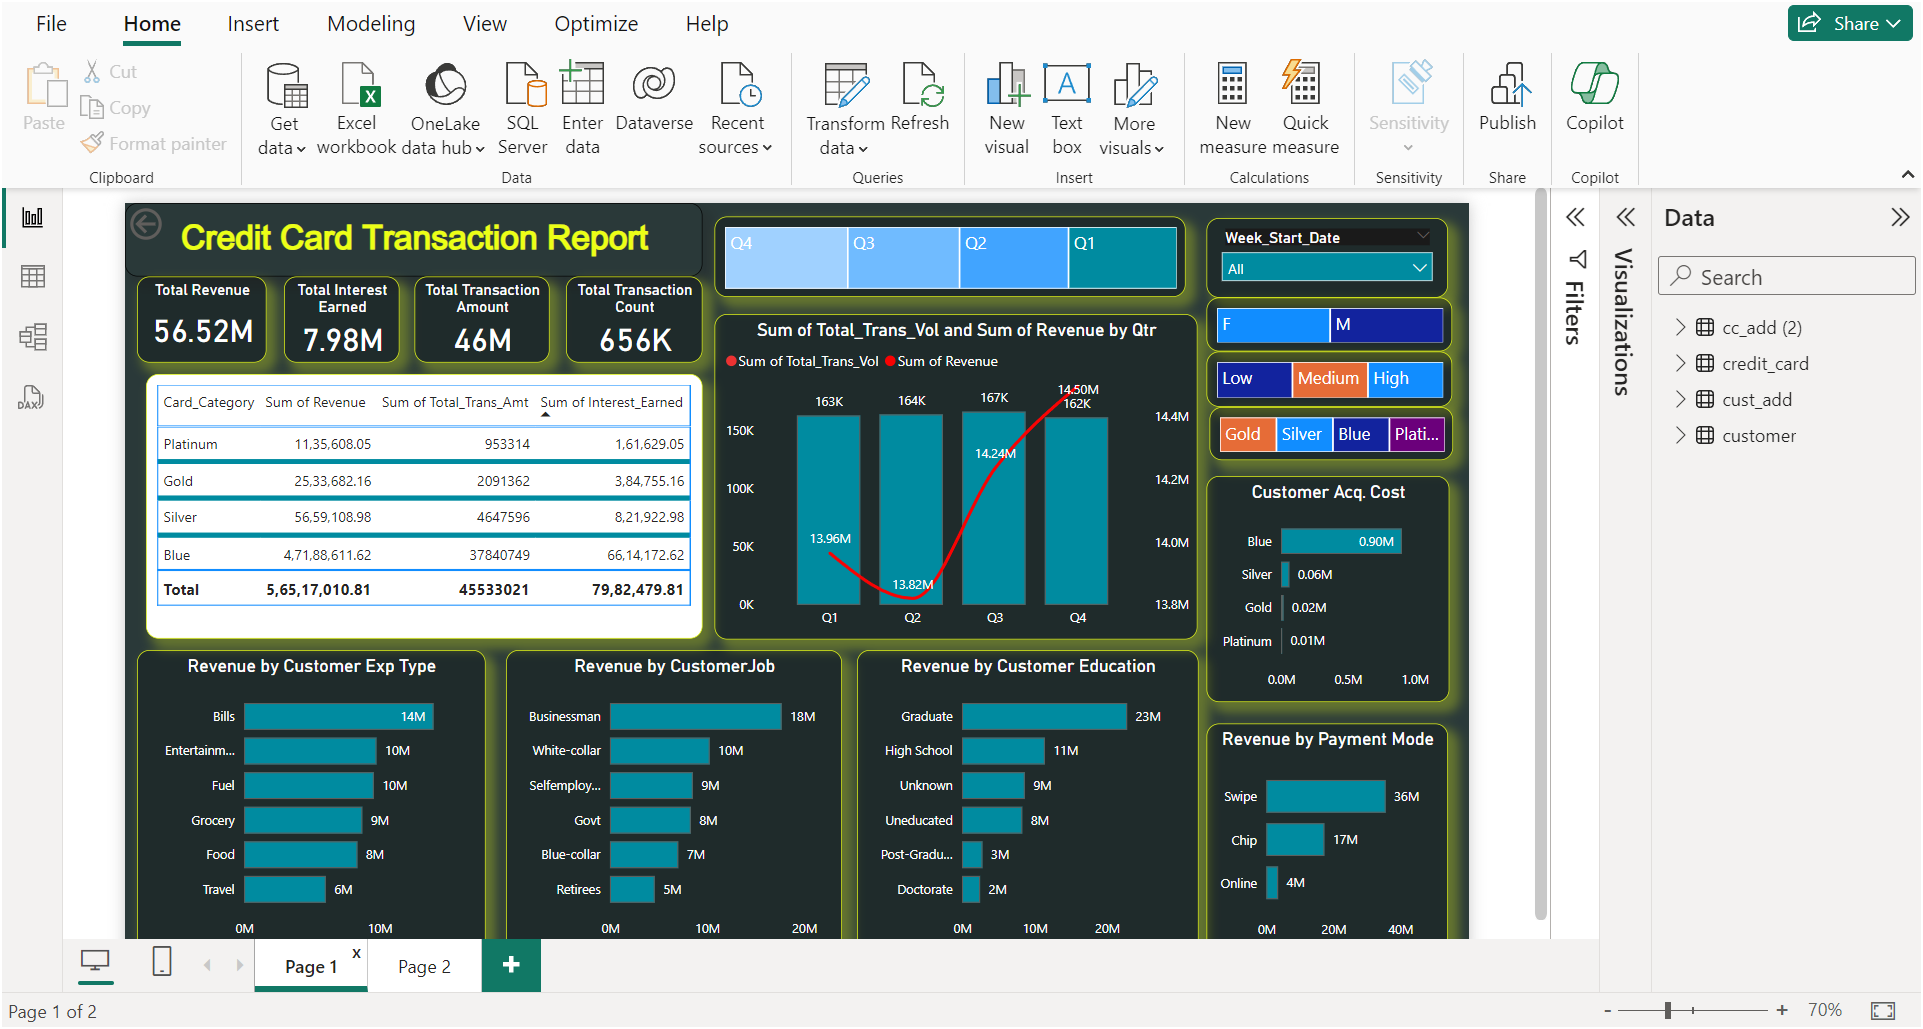

Layout of this report page (visuals, bound fields, positions):
{"tool":"powerbi","page":{"name":"Page 1","canvas":[1280,720],"ordinal":0},"visuals":[{"type":"actionButton","box":[0,0,100,40],"z":0},{"type":"textbox","box":[0,0,550,70],"z":1000},{"type":"barChart","title":"Revenue by Customer Exp Type","fields":{"Category":["credit_card.Exp Type"],"Y":["Sum(credit_card.Revenue)"]},"box":[11.7,425,331.7,286.7],"z":2000},{"type":"barChart","title":"Revenue by Customer Education","fields":{"Category":["customer.Education_Level"],"Y":["Sum(credit_card.Revenue)"]},"box":[696.7,425,325,286.7],"z":3000},{"type":"barChart","title":"Revenue by CustomerJob","fields":{"Y":["Sum(credit_card.Revenue)"],"Category":["customer.Customer_Job"]},"box":[363.3,425,320,286.7],"z":4000},{"type":"barChart","title":"Revenue by Payment Mode","fields":{"Y":["Sum(credit_card.Revenue)"],"Category":["credit_card.Use Chip"]},"box":[1030,496.2,230,217.5],"z":5000},{"type":"lineStackedColumnComboChart","fields":{"Y":["Sum(credit_card.Total_Trans_Vol)"],"Category":["credit_card.Qtr"],"Y2":["Sum(credit_card.Revenue)"]},"box":[561.7,105,460,310],"z":6000},{"type":"treemap","title":"Revenue by Payment Mode","fields":{"Details":["credit_card.Qtr"],"Values":["Avg(credit_card.Client_Num)"]},"box":[561.7,13.3,448.3,76.7],"z":7000},{"type":"card","title":"Total Revenue","fields":{"Values":["Sum(credit_card.Revenue)"]},"box":[11.7,70,123.3,81.7],"z":8000},{"type":"card","title":"Total Interest Earned","fields":{"Values":["Sum(credit_card.Interest_Earned)"]},"box":[151.7,70,110,81.7],"z":9000},{"type":"card","title":"Total  Transaction Amount","fields":{"Values":["Sum(credit_card.Total_Trans_Amt)"]},"box":[275,70,128.3,81.7],"z":10000},{"type":"card","title":"Total Transaction Count","fields":{"Values":["Sum(credit_card.Total_Trans_Vol)"]},"box":[420,70,130,81.7],"z":11000},{"type":"tableEx","fields":{"Values":["credit_card.Card_Category","Sum(credit_card.Revenue)","Sum(credit_card.Total_Trans_Amt)","Sum(credit_card.Interest_Earned)"]},"box":[20,163.3,530,251.7],"z":12000},{"type":"slicer","fields":{"Values":["credit_card.Week_Start_Date"]},"box":[1030,13.8,230,76.2],"z":13000},{"type":"barChart","title":"Customer Acq. Cost","fields":{"Category":["credit_card.Card_Category"],"Y":["Sum(credit_card.Customer_Acq_Cost)"]},"box":[1030,260,231.2,215],"z":14000},{"type":"treemap","title":"Revenue by Payment Mode","fields":{"Values":["Avg(credit_card.Client_Num)"],"Group":["customer.Gender"]},"box":[1030,90,233.8,51.2],"z":15000},{"type":"treemap","title":"Revenue by Payment Mode","fields":{"Values":["Avg(credit_card.Client_Num)"],"Details":["customer.Income Group"]},"box":[1030,141.2,233.8,52.5],"z":16000},{"type":"treemap","title":"Revenue by Payment Mode","fields":{"Values":["Avg(credit_card.Client_Num)"],"Group":["credit_card.Card_Category"]},"box":[1032.3,193.8,232.3,50.8],"z":17000}]}

Visuals, with their boxes on the page's 1280x720 design canvas (x1, y1, x2, y2). These are canvas units, not pixel positions in the 1923x1029 screenshot, which may show the page scaled, cropped or inside an application window:
actionButton: select_region(0, 0, 100, 40)
textbox: select_region(0, 0, 550, 70)
"Revenue by Customer Exp Type" barChart: select_region(12, 425, 343, 712)
"Revenue by Customer Education" barChart: select_region(697, 425, 1022, 712)
"Revenue by CustomerJob" barChart: select_region(363, 425, 683, 712)
"Revenue by Payment Mode" barChart: select_region(1030, 496, 1260, 714)
lineStackedColumnComboChart - Sum(credit_card.Total_Trans_Vol) x credit_card.Qtr: select_region(562, 105, 1022, 415)
"Revenue by Payment Mode" treemap: select_region(562, 13, 1010, 90)
"Total Revenue" card: select_region(12, 70, 135, 152)
"Total Interest Earned" card: select_region(152, 70, 262, 152)
"Total  Transaction Amount" card: select_region(275, 70, 403, 152)
"Total Transaction Count" card: select_region(420, 70, 550, 152)
tableEx - credit_card.Card_Category x Sum(credit_card.Revenue): select_region(20, 163, 550, 415)
slicer - credit_card.Week_Start_Date: select_region(1030, 14, 1260, 90)
"Customer Acq. Cost" barChart: select_region(1030, 260, 1261, 475)
"Revenue by Payment Mode" treemap: select_region(1030, 90, 1264, 141)
"Revenue by Payment Mode" treemap: select_region(1030, 141, 1264, 194)
"Revenue by Payment Mode" treemap: select_region(1032, 194, 1265, 245)
